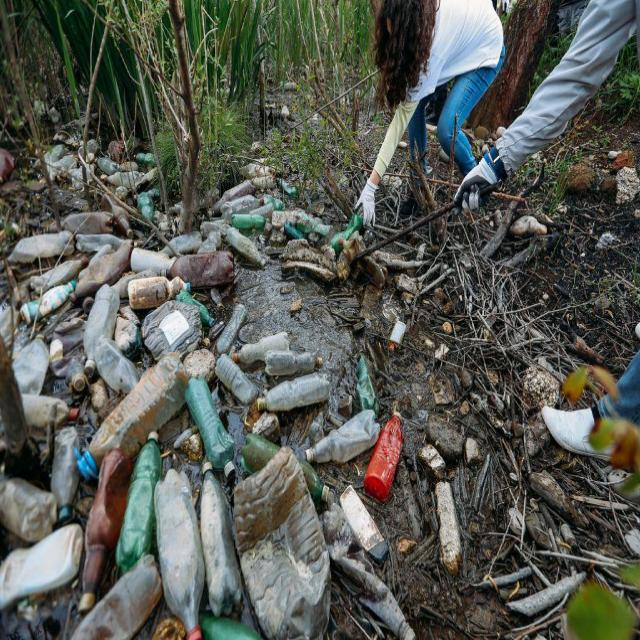bottle: (232, 444, 334, 640), (76, 350, 188, 480), (330, 547, 434, 640), (152, 466, 207, 640), (79, 450, 132, 612), (71, 553, 165, 640), (196, 459, 246, 614), (0, 523, 83, 611), (229, 415, 334, 484), (181, 372, 241, 487), (298, 398, 382, 469), (359, 398, 413, 505), (118, 431, 159, 569), (0, 466, 57, 543), (68, 239, 134, 303), (157, 236, 242, 280), (7, 220, 79, 270), (86, 280, 120, 382), (344, 344, 384, 428), (50, 315, 89, 394), (262, 369, 326, 416), (18, 277, 78, 327), (206, 163, 255, 224), (327, 195, 365, 268), (54, 412, 79, 522), (261, 339, 328, 378), (213, 351, 259, 406), (95, 338, 141, 393), (96, 185, 136, 248), (59, 202, 117, 245), (125, 275, 193, 310), (232, 332, 290, 371), (223, 226, 270, 269), (200, 609, 263, 640), (20, 341, 50, 399), (130, 244, 181, 276), (294, 213, 334, 240), (48, 152, 79, 183), (229, 212, 271, 232), (274, 171, 298, 200), (92, 154, 120, 178), (260, 192, 286, 217), (282, 222, 306, 249), (136, 189, 154, 224), (248, 202, 280, 221), (132, 151, 160, 168), (288, 60, 294, 67)
